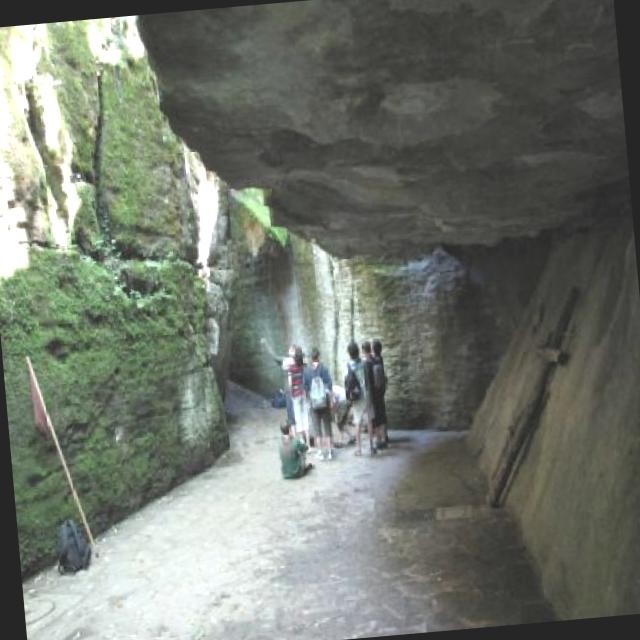Person: (360, 336, 400, 458), (341, 340, 379, 459), (368, 332, 402, 446), (284, 345, 318, 454), (308, 342, 337, 462), (274, 413, 314, 482), (260, 337, 302, 388), (328, 378, 354, 458)
